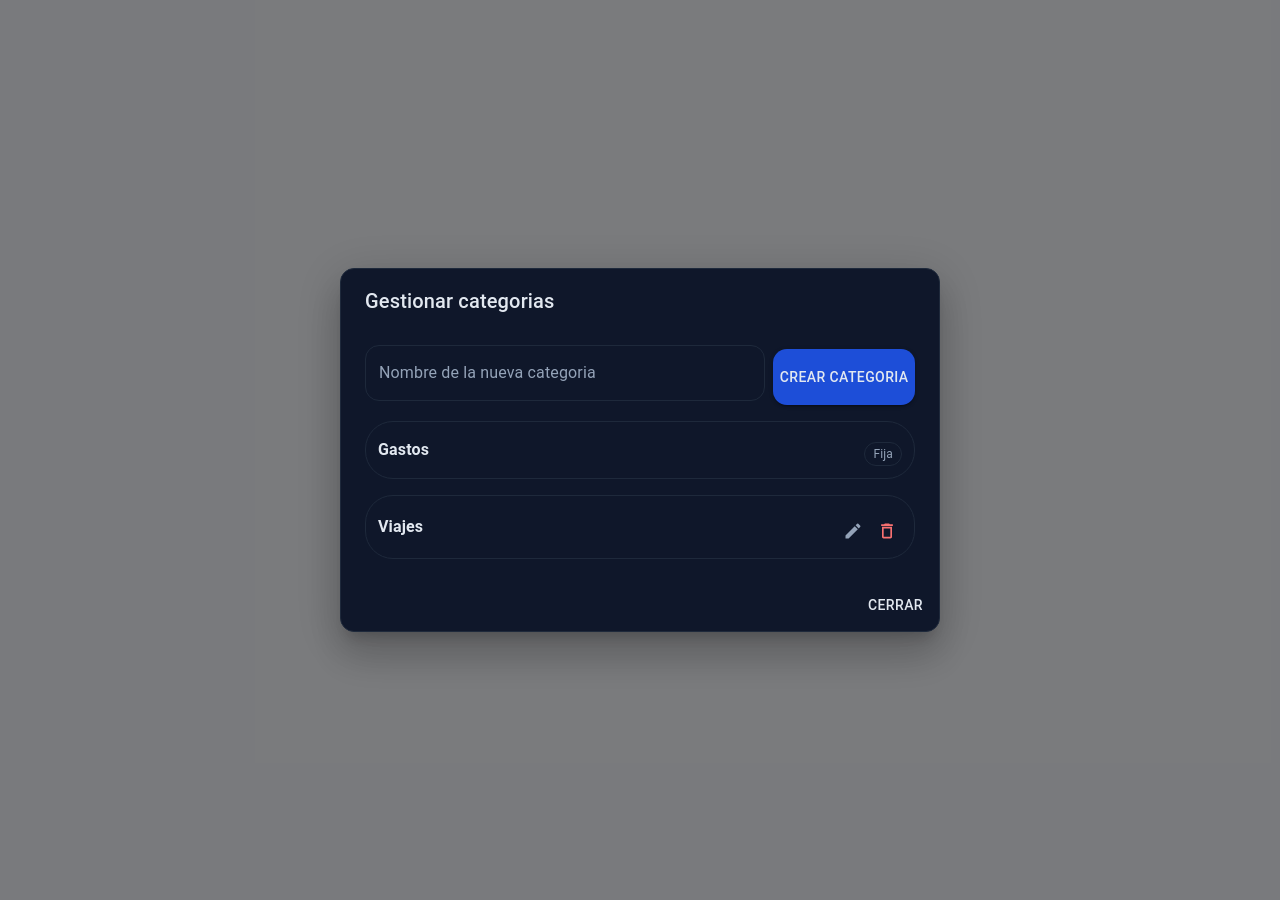
Test: ManageCategoriesModal › rechaza crear una categoría con nombre vacío
Check: the text "Viajes" is shown, box [378, 517, 423, 536]
Click the button "Crear categoria": (844, 377) [773, 349, 915, 405]
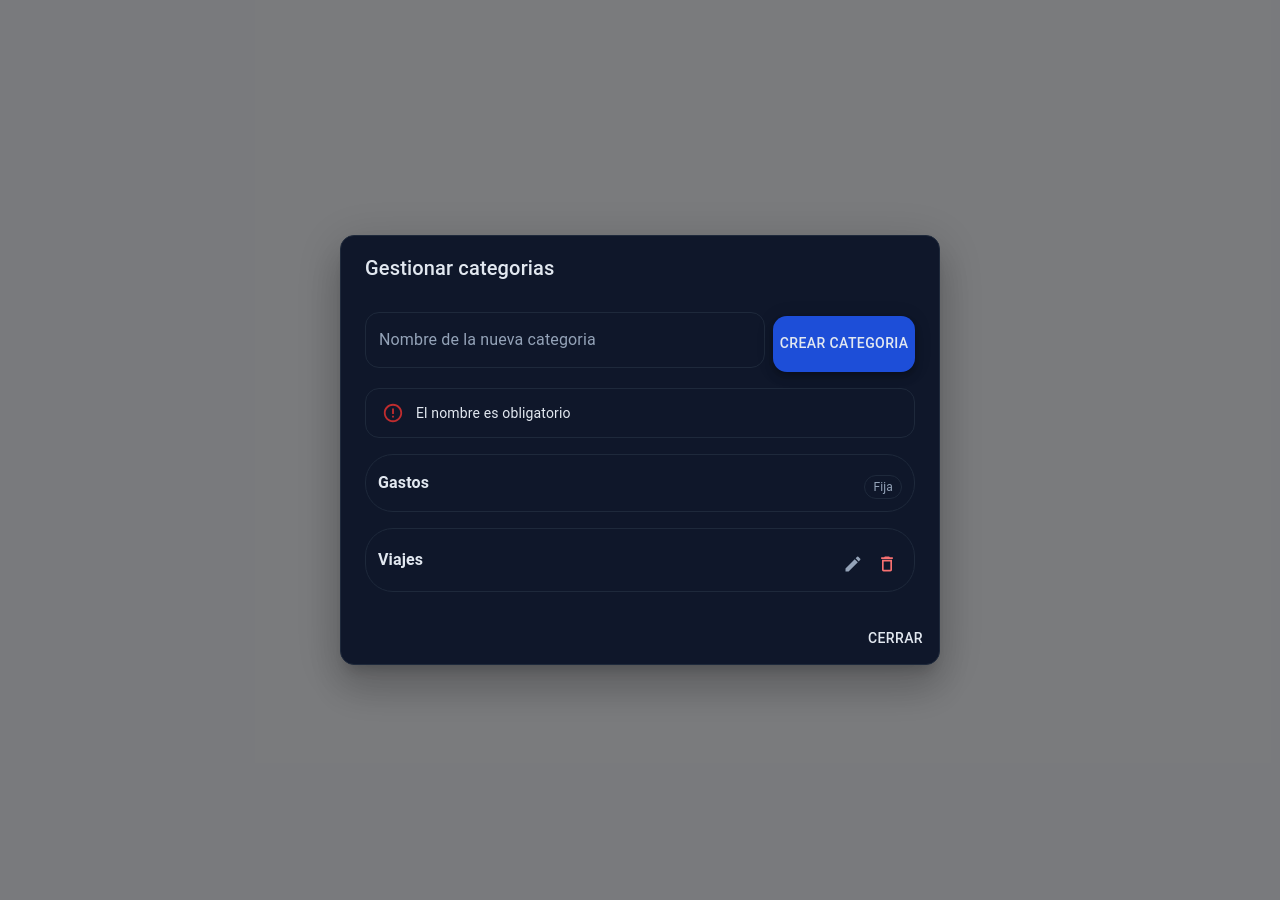
Check: the text "El nombre es obligatorio" is shown, box [416, 405, 571, 421]
